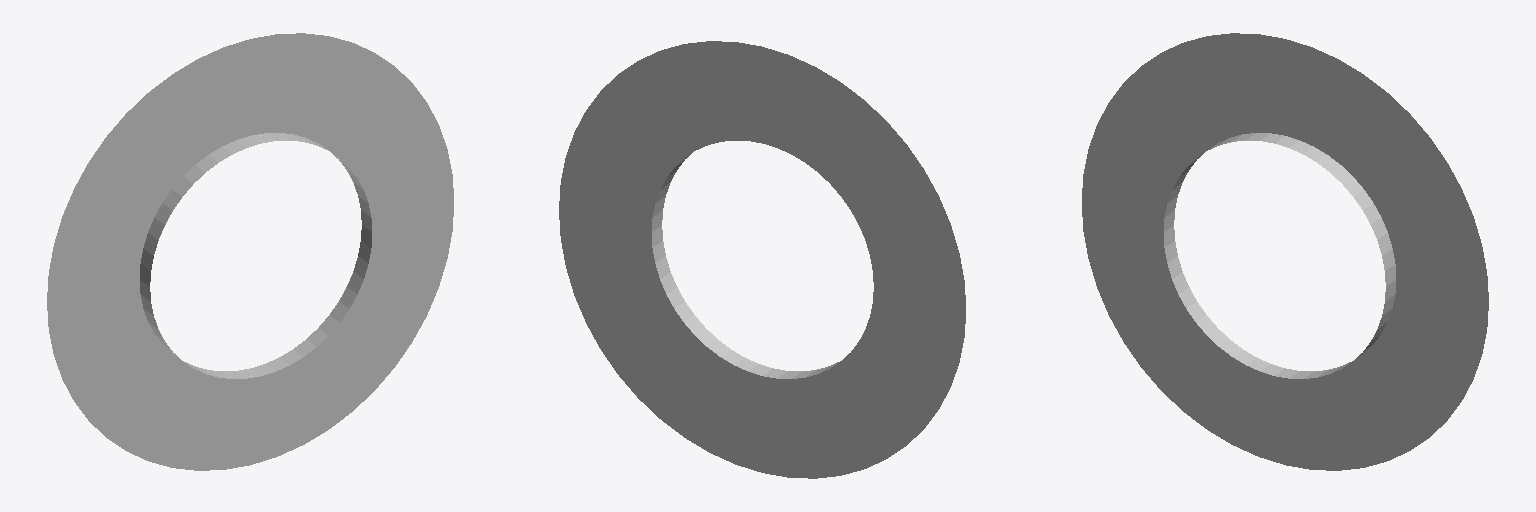
Rendered from original-37.obj.
3 renders of one model, left to right at view 1: azimuth 30°, elevation 25°; view 2: azimuth 150°, elevation 25°; view 3: azimuth 330°, elevation 25°, orthographic.
Visible parts, largest first — view 1: Group4/mesh3/mesh3-geometry/material_1/component_1#mesh3-geometr; view 2: Group4/mesh3/mesh3-geometry/material_1/component_1#mesh3-geometr; view 3: Group4/mesh3/mesh3-geometry/material_1/component_1#mesh3-geometr.
Part boxes in pixels (left/top/right/bottom): Group4/mesh3/mesh3-geometry/material_1/component_1#mesh3-geometr: left=47, top=33, right=453, bottom=470; Group4/mesh3/mesh3-geometry/material_1/component_1#mesh3-geometr: left=559, top=41, right=965, bottom=478; Group4/mesh3/mesh3-geometry/material_1/component_1#mesh3-geometr: left=1082, top=33, right=1488, bottom=470.
Size of the model in its own units: 0.4897 by 0.4897 by 0.0223.